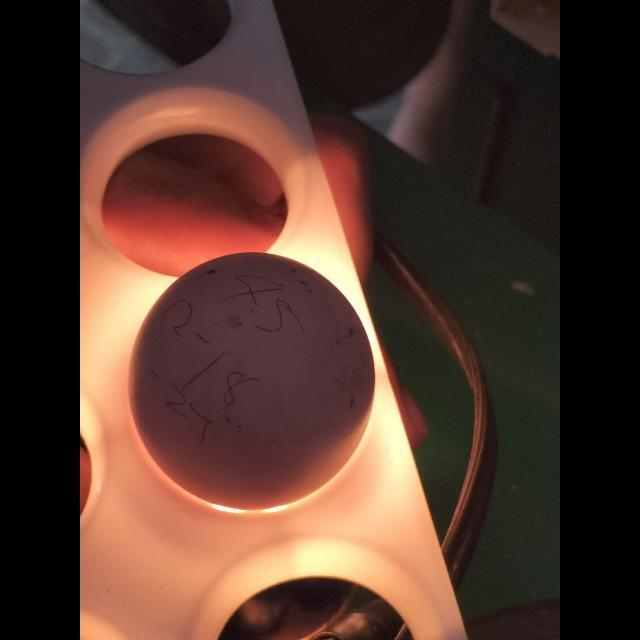B - Fair: (129, 254, 377, 511)
